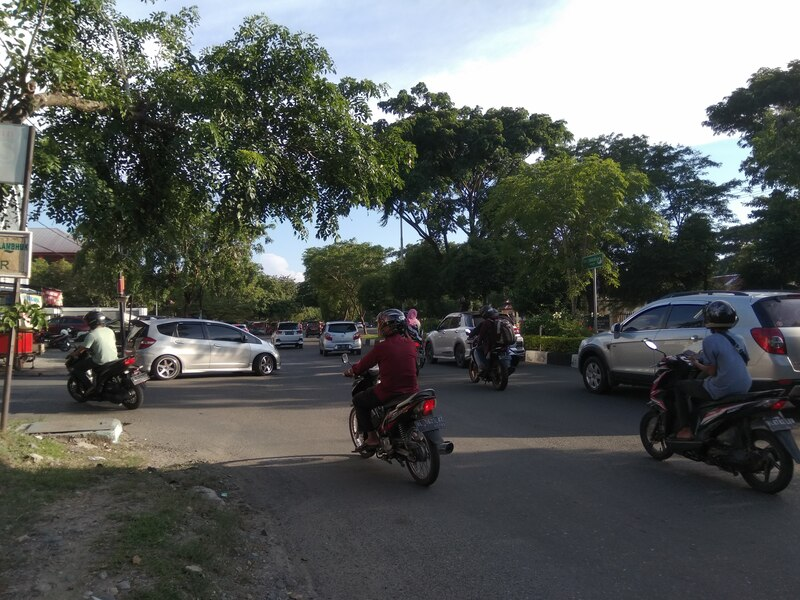car: (570, 288, 800, 406), (122, 315, 283, 392), (424, 313, 527, 370), (318, 318, 363, 360), (269, 319, 308, 351)
motorcycle: (643, 337, 800, 499), (337, 350, 460, 494), (59, 328, 154, 414), (461, 323, 526, 395)
